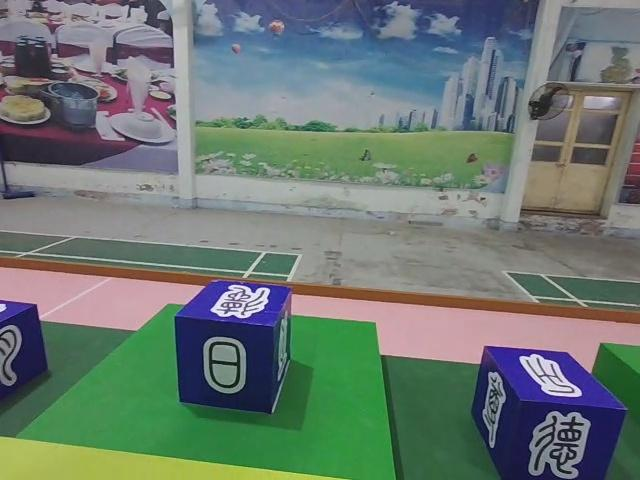R2 Fake Blue: (471, 346, 627, 480), (173, 278, 291, 416), (0, 301, 48, 419)
